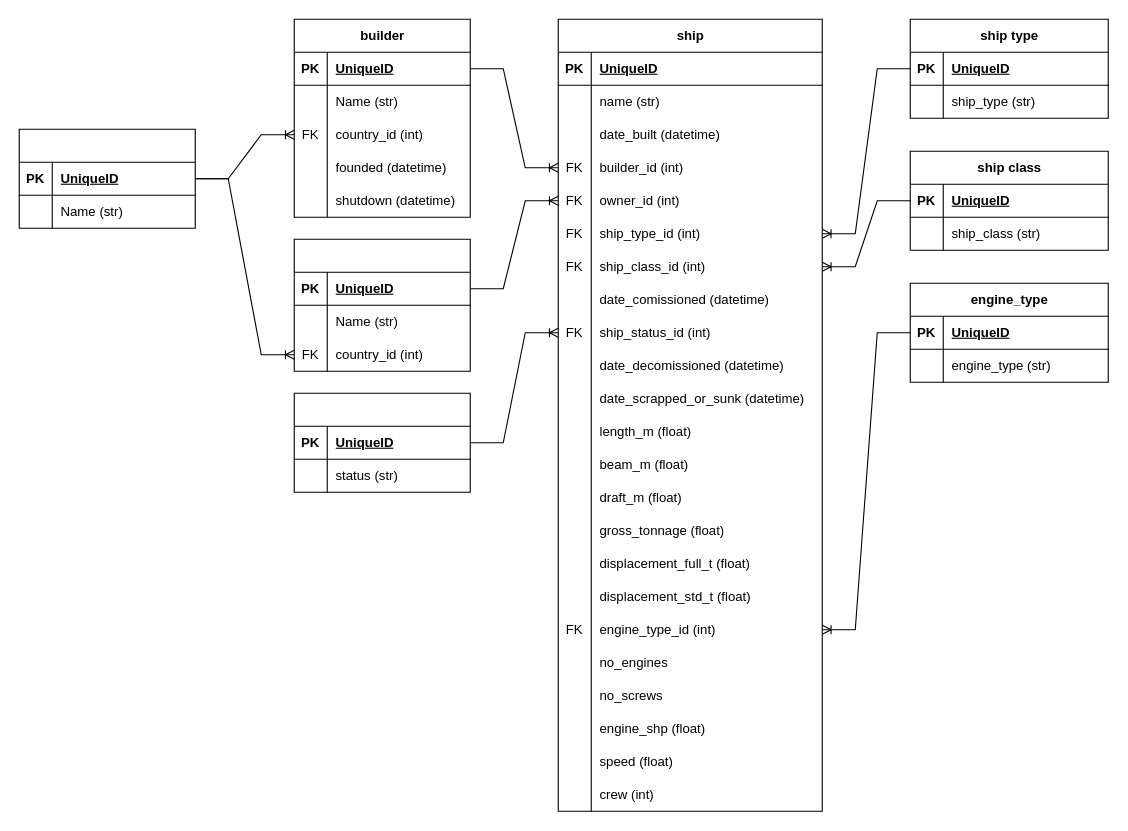
The diagram is 1128 pixels wide and 831 high, and some of its shapes have lost their labels. The shapes that lost their labels are listed below. From the top down, each one's box as (x1, y1, x2, y2) in pixels, then its label:
(18, 128, 195, 228): country
(293, 238, 470, 371): owner
(293, 392, 470, 492): ship_status
